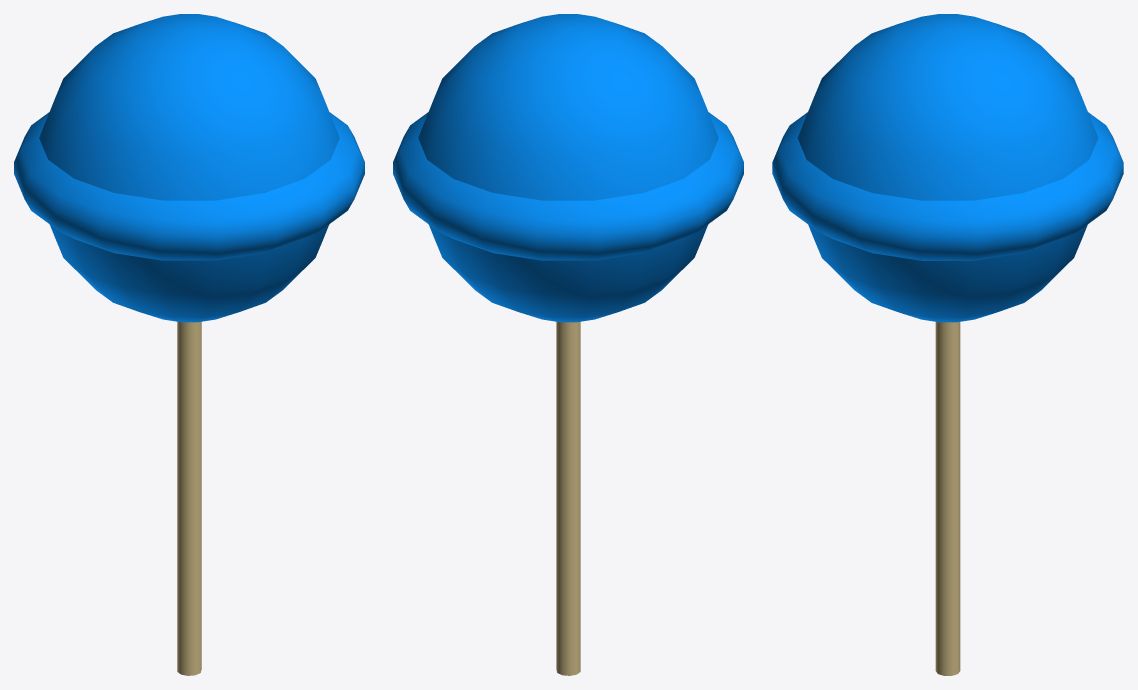
The model's file is Candy_LollipopClassic-A.FBX.
The picture shows the model from 3 angles, left to right: view 1: azimuth 30°, elevation 25°; view 2: azimuth 150°, elevation 25°; view 3: azimuth 270°, elevation 25°; orthographic projection.
Visible parts, largest first — view 1: Candy_LollipopClassic-A; view 2: Candy_LollipopClassic-A; view 3: Candy_LollipopClassic-A.
Part boxes in pixels (x1,y1,x2,y2): Candy_LollipopClassic-A: [14, 14, 364, 675]; Candy_LollipopClassic-A: [393, 14, 743, 675]; Candy_LollipopClassic-A: [772, 14, 1123, 675].
Bounding box in the file's own units: 1414 × 2903 × 1435.
